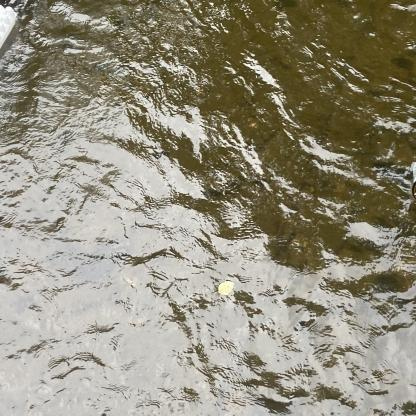trash: (0, 3, 21, 55), (411, 158, 416, 200)
